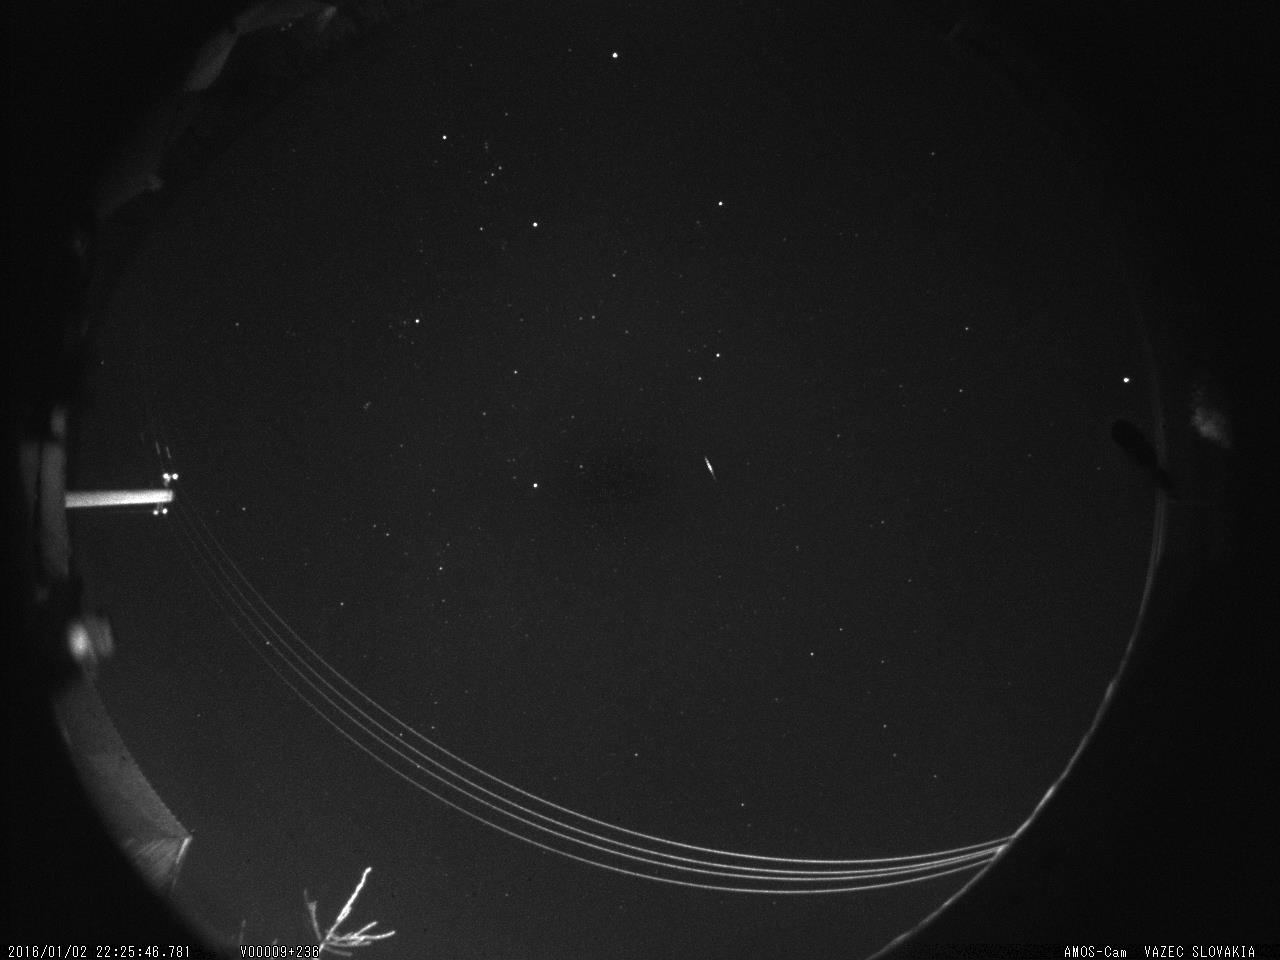meteor: (702, 448, 725, 495)
